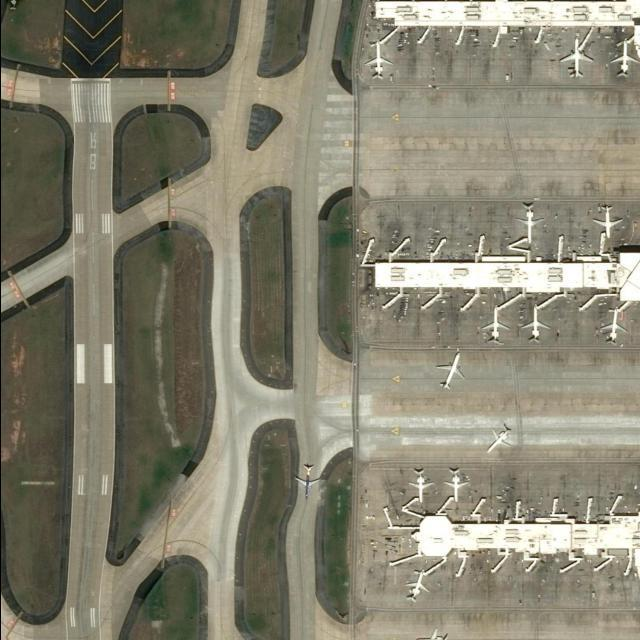Aircraft: (555, 36, 592, 78), (513, 199, 544, 244), (518, 303, 552, 343), (362, 38, 394, 80), (607, 36, 639, 78), (477, 305, 509, 347), (598, 305, 628, 347), (588, 203, 622, 239), (433, 350, 464, 389), (404, 467, 432, 503), (441, 465, 469, 501), (402, 568, 429, 602), (482, 423, 512, 453)
